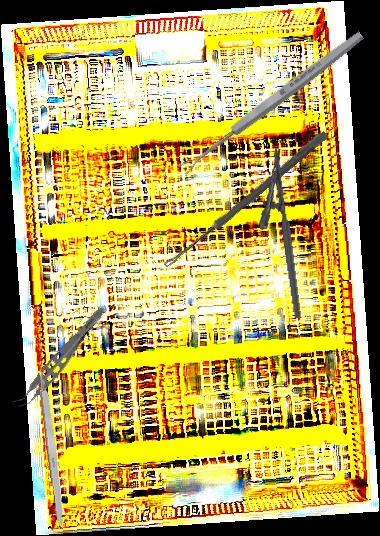Needle Holder: (249, 148, 303, 322)
Scalpel Handle: (37, 369, 68, 530)
Surgical Spoon: (177, 28, 366, 177), (163, 129, 329, 271)
Tissue Forceps: (11, 299, 108, 415)
